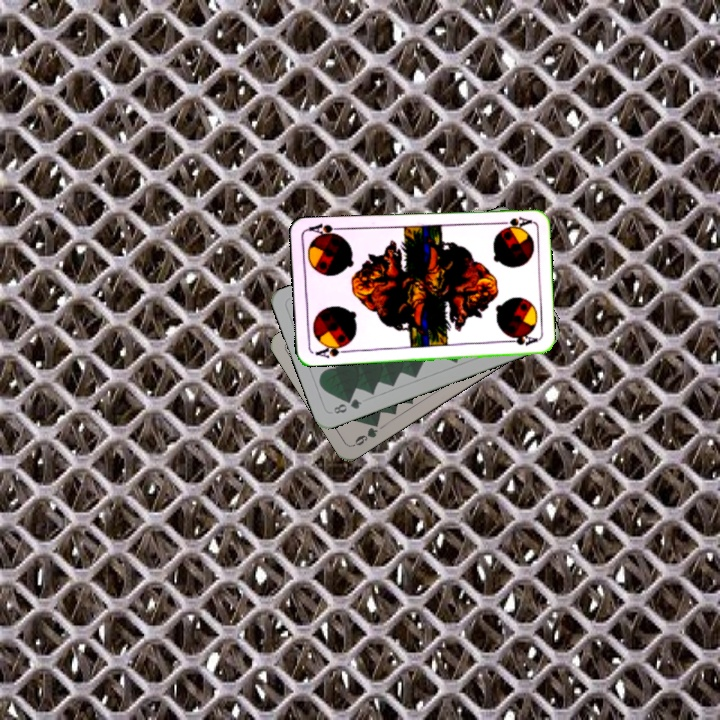G8: (329, 395, 364, 416)
G9: (349, 417, 382, 449)
SA: (311, 340, 351, 360), (493, 213, 534, 232)
